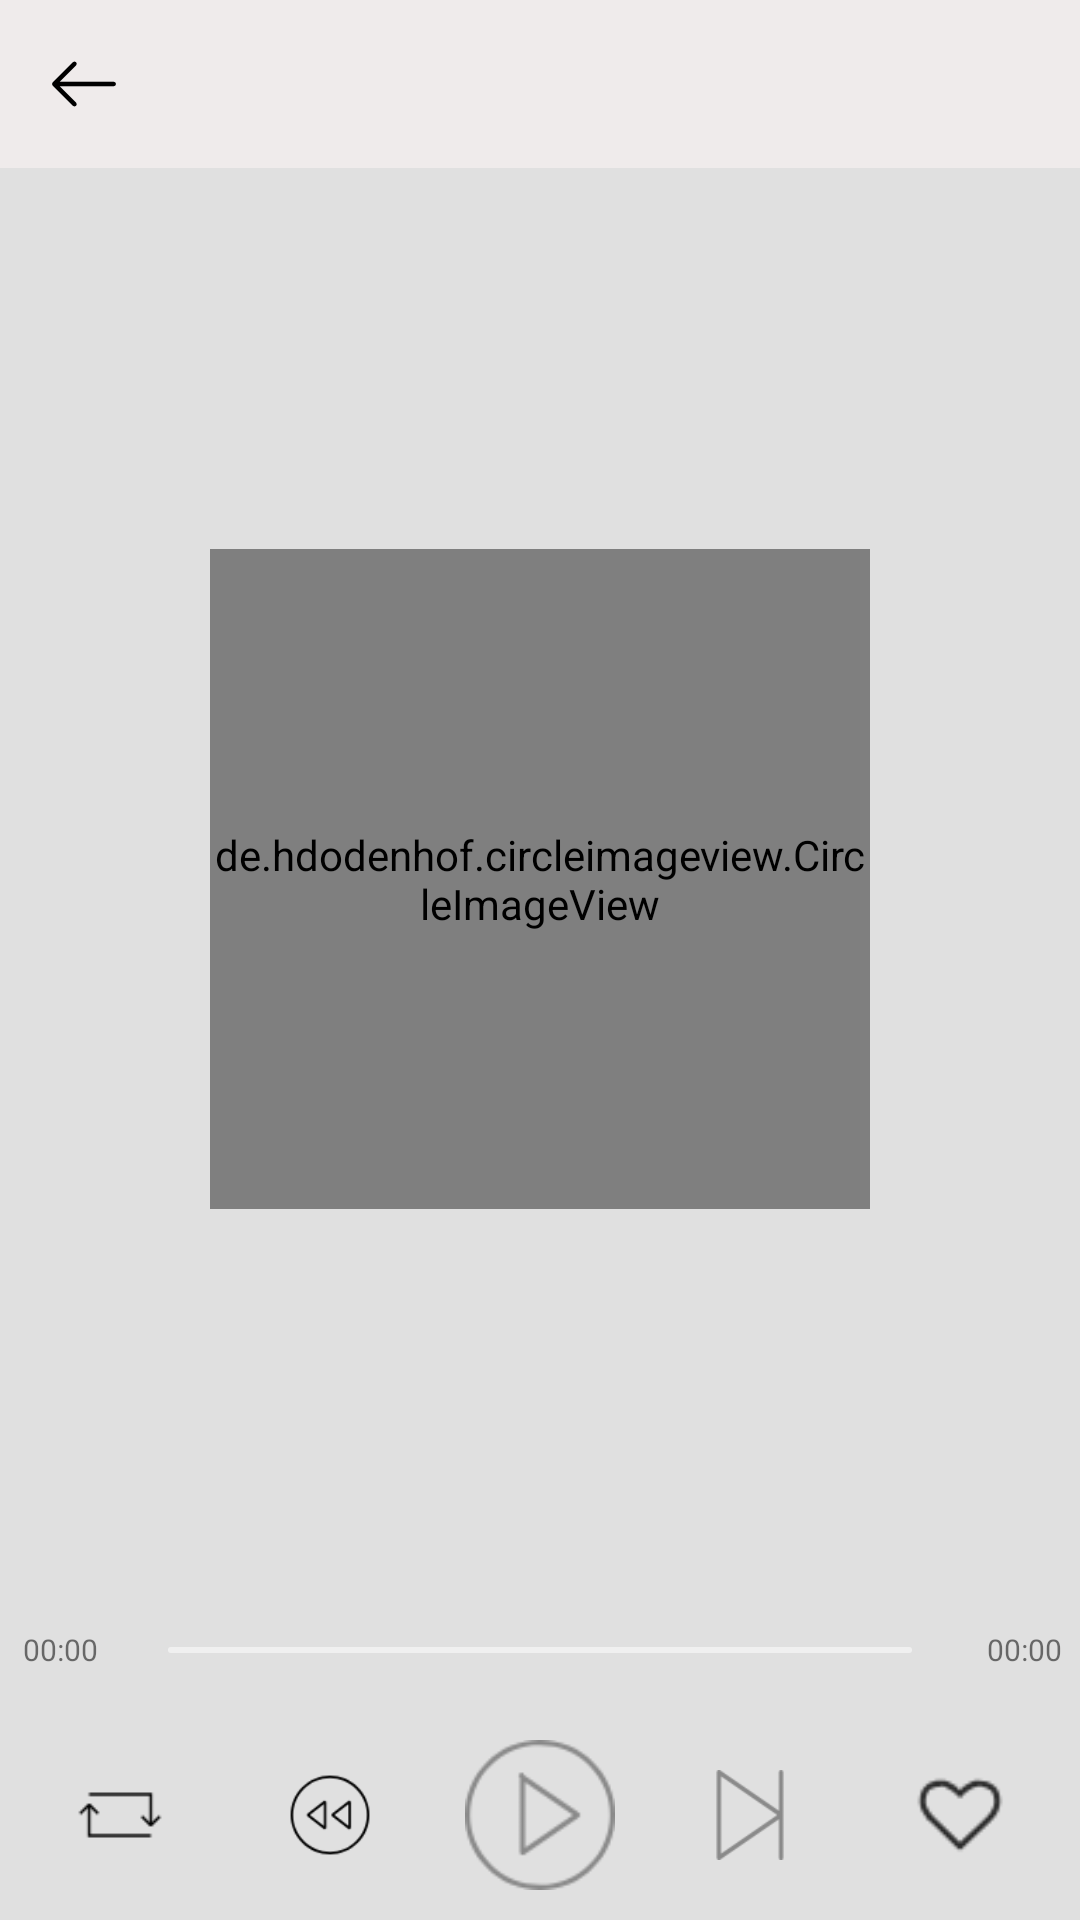

Where to tap for icons on this 1080 × 1920 app screen, as (x=x, y=y):
list play: (x=120, y=1815)
love: (x=960, y=1814)
next: (x=750, y=1815)
play: (x=540, y=1815)
pre: (x=330, y=1815)
